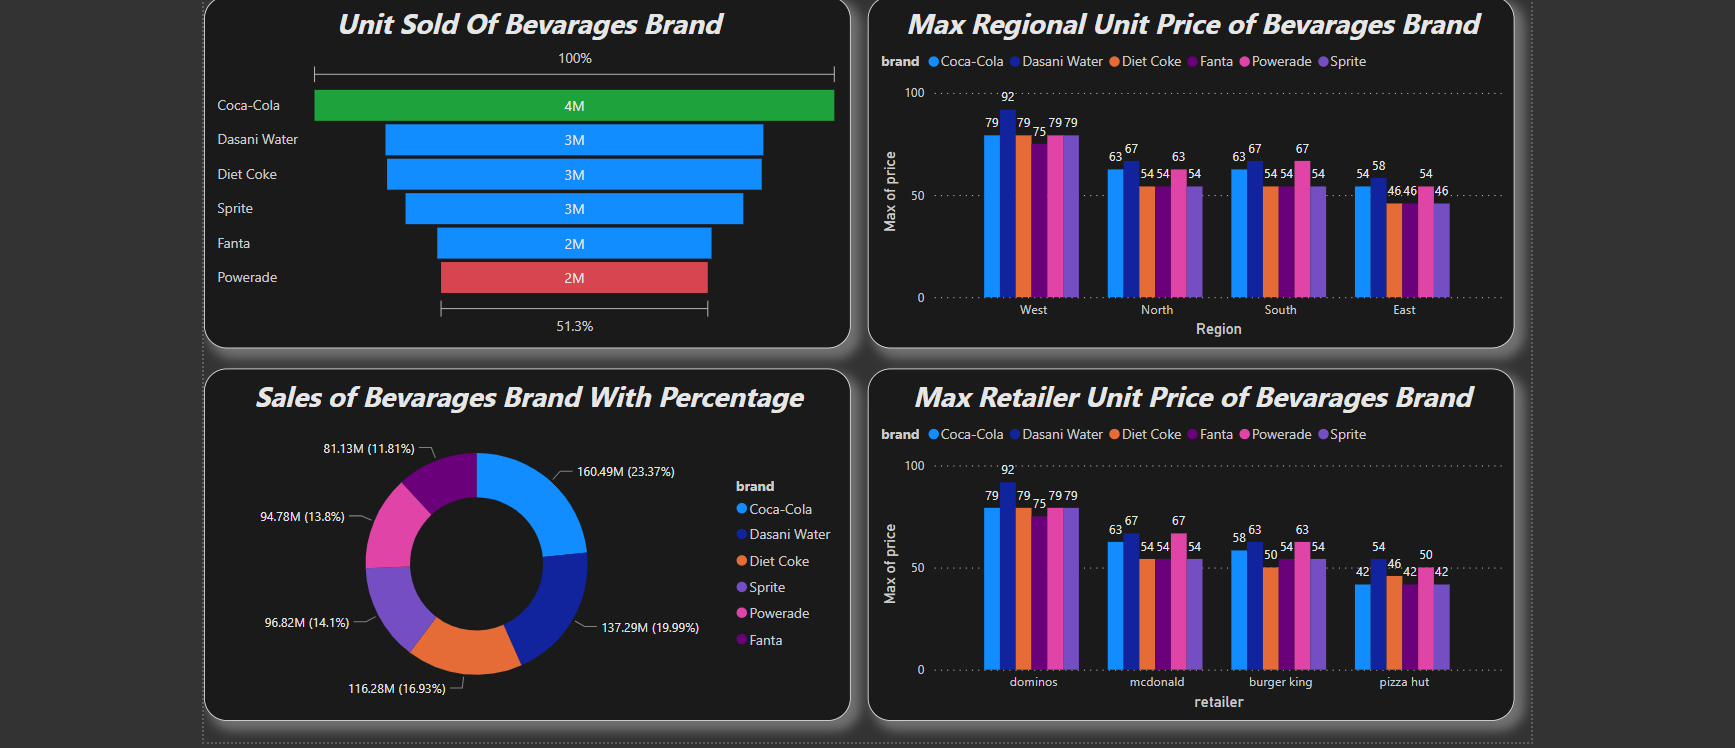

What the dashboard file says about the page in this screenshot:
{"tool":"powerbi","page":{"name":"Page 6","canvas":[1280,720],"ordinal":5},"visuals":[{"type":"funnel","title":"Unit Sold Of Bevarages Brand","fields":{"Y":["Sum(bv india.Units Sold)"],"Category":["bv india.brand"]},"box":[0,0,624.4,340.3],"z":0},{"type":"donutChart","title":"Sales of Bevarages Brand With Percentage","fields":{"Category":["bv india.brand"],"Y":["Sum(bv india.totalsales)"]},"box":[0,359.5,624.4,340.3],"z":1000},{"type":"clusteredColumnChart","title":"Max Retailer Unit Price of Bevarages Brand","fields":{"Category":["bv india.retailer"],"Y":["Max(bv india.price)"],"Series":["bv india.brand"]},"box":[640.8,359.5,624.4,340.3],"z":3000},{"type":"clusteredColumnChart","title":"Max Regional Unit Price of Bevarages Brand","fields":{"Category":["bv india.Region"],"Y":["Max(bv india.price)"],"Series":["bv india.brand"]},"box":[640.8,0,624.4,340.3],"z":3001}]}

Visuals, with their boxes on the page's 1280x720 design canvas (x1, y1, x2, y2). These are canvas units, not pixel positions in the 1735x748 screenshot, which may show the page scaled, cropped or inside an application window:
"Unit Sold Of Bevarages Brand" funnel: (0, 0, 624, 340)
"Sales of Bevarages Brand With Percentage" donutChart: (0, 360, 624, 700)
"Max Retailer Unit Price of Bevarages Brand" clusteredColumnChart: (641, 360, 1265, 700)
"Max Regional Unit Price of Bevarages Brand" clusteredColumnChart: (641, 0, 1265, 340)
